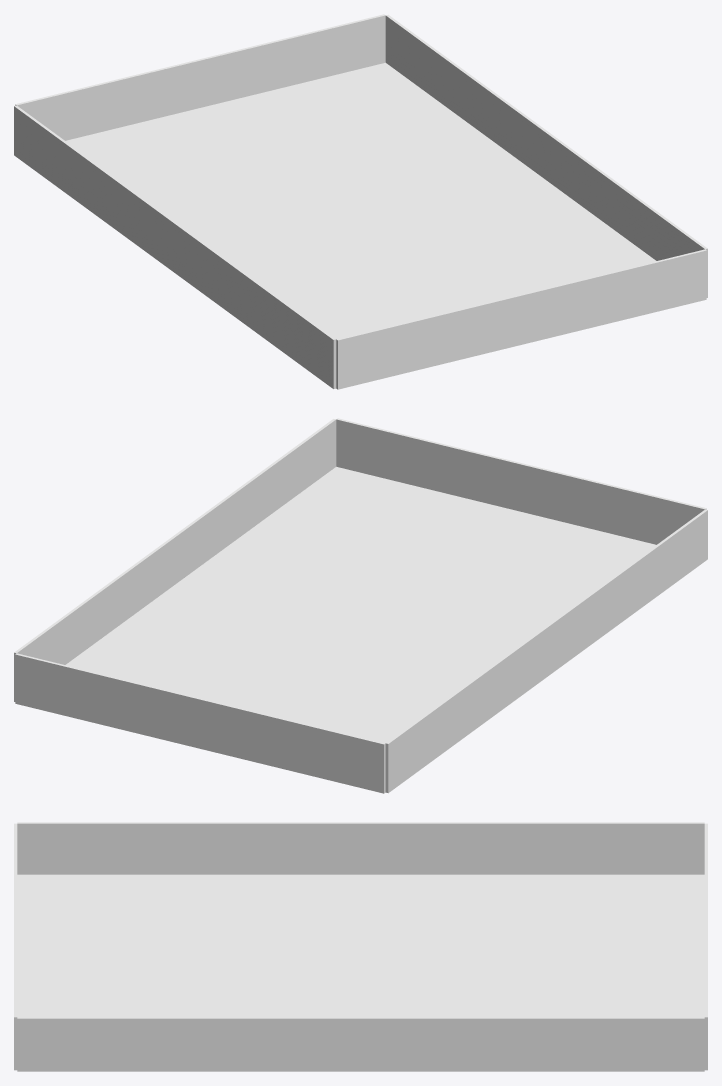
Rendered from Factory.dae.
3 views of the same model, one above another, from view 1: azimuth 30°, elevation 25°; view 2: azimuth 150°, elevation 25°; view 3: azimuth 270°, elevation 25° (orthographic). The views are drawn at different scales.
Visible parts, largest first — view 1: Cube; view 2: Cube; view 3: Cube.
Boxes of the visible parts, x1,y1,x2,y2 form: Cube: (14, 14, 707, 389); Cube: (14, 418, 707, 793); Cube: (14, 822, 707, 1071).
Size of the model in its own units: 20.3 by 30.3 by 2.55.
2 materials, 2 textured.
